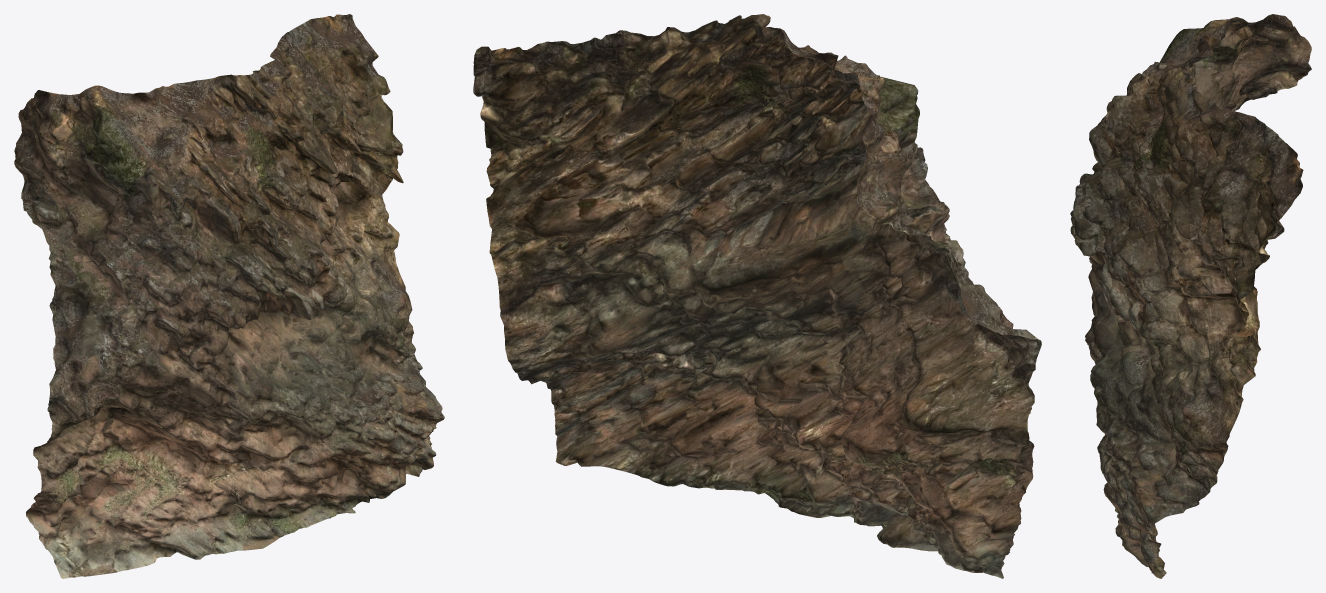
The model's file is mountainside.glb.
3 renders of one model, left to right at view 1: azimuth 30°, elevation 25°; view 2: azimuth 150°, elevation 25°; view 3: azimuth 270°, elevation 25°, orthographic. The views are drawn at different scales.
Parts seen in each view (by area): view 1: mountainside; view 2: mountainside; view 3: mountainside.
Boxes of the visible parts, bbox=[...] form: mountainside: bbox=[14, 14, 444, 578]; mountainside: bbox=[473, 14, 1041, 578]; mountainside: bbox=[1070, 14, 1311, 578].
Size of the model in its own units: 10.21 by 10.52 by 5.25.
1 material, 1 textured.
